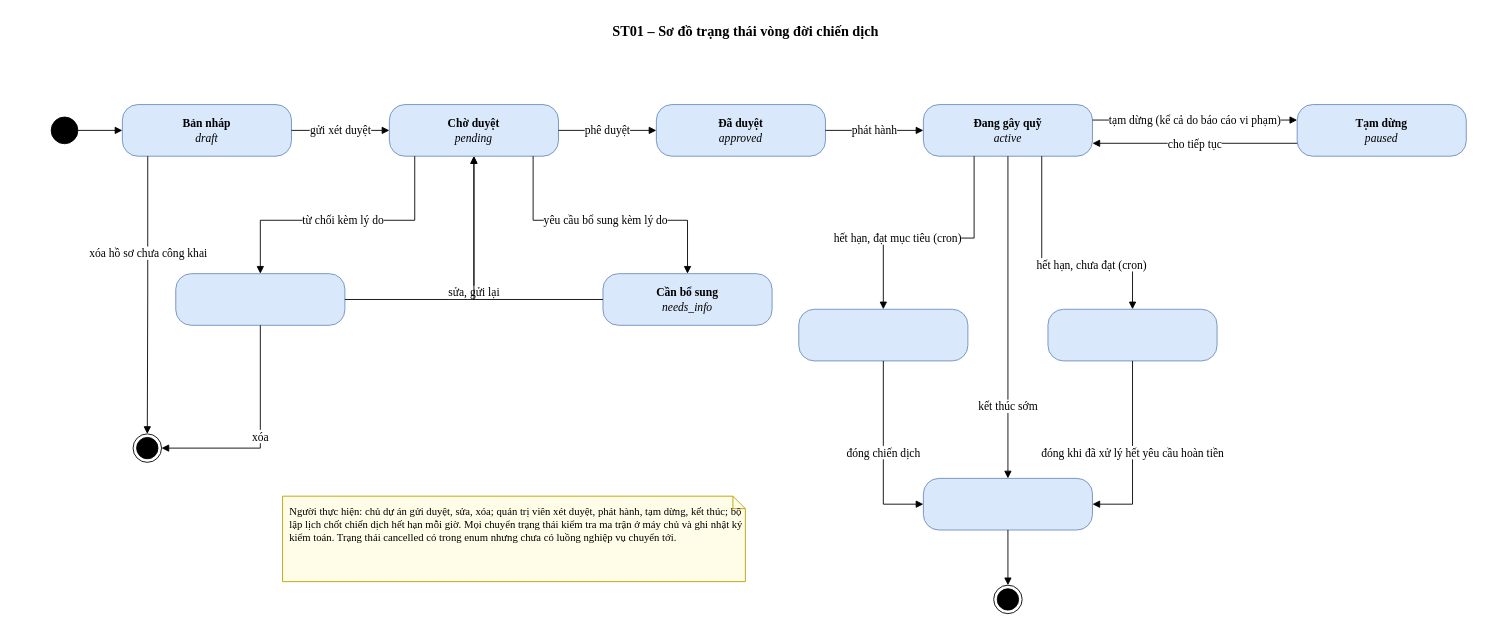
Image size: 1490x629. Some labels were removed from this diagram. Here are the shapes that lost their labels. From the top down, the centre of each, then its label:
the point at 260,299: Bị từ chối rejected
the point at 883,334: Thành công success
the point at 1132,334: Không đạt mục tiêu failed
the point at 1007,503: Kết thúc ended
